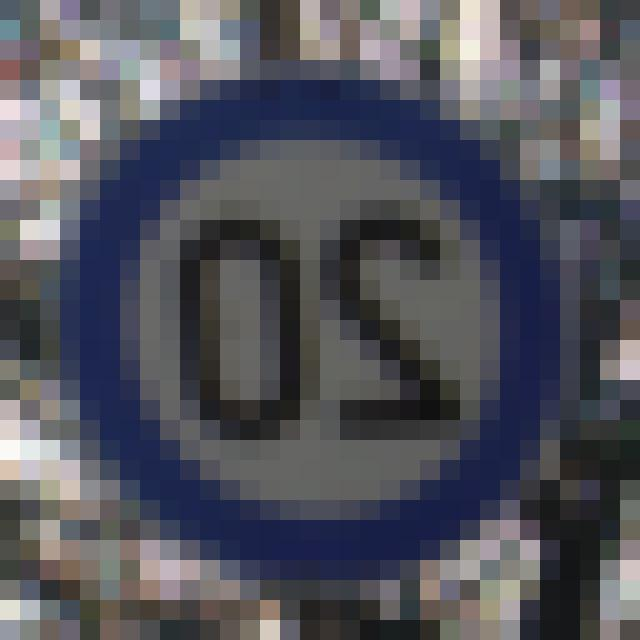SPEED LIMIT 20: (79, 123, 531, 539)
